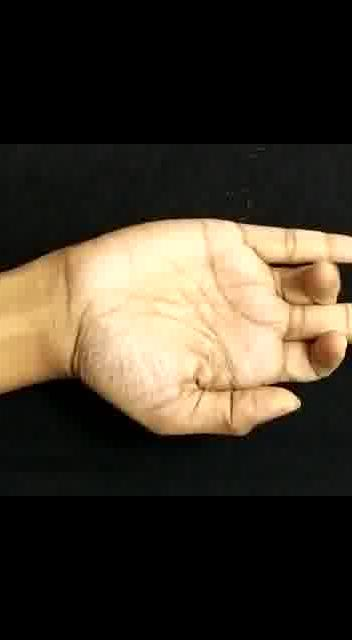shuktund: (56, 201, 352, 446)
